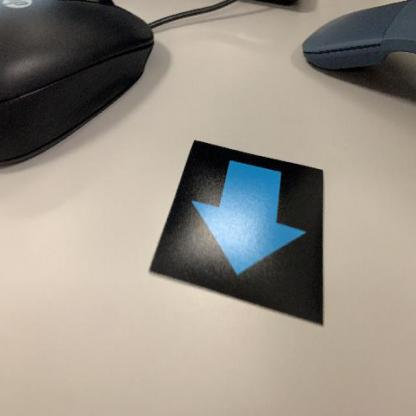down: (148, 139, 326, 328)
